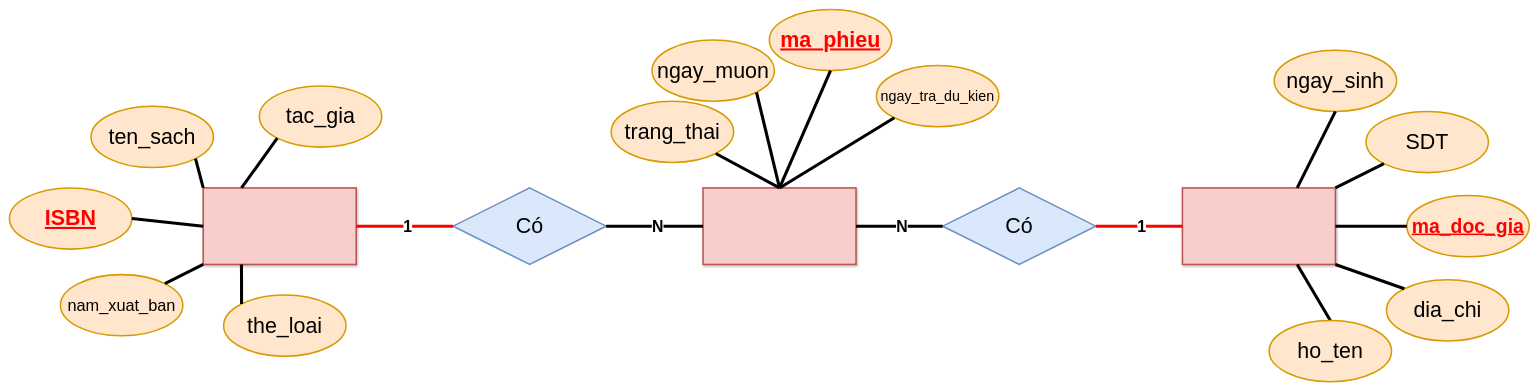
The diagram is 1539 pixels wide and 391 high, and some of its shapes have lost their labels. The centre of each missing label's shape, as x and y in pixels:
Phiếu mượn: [780,227]
Sách: [280,227]
Độc giả: [1259,227]
